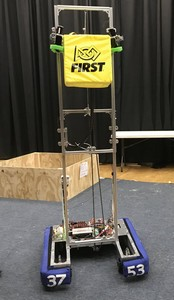cube: (62, 34, 114, 89)
